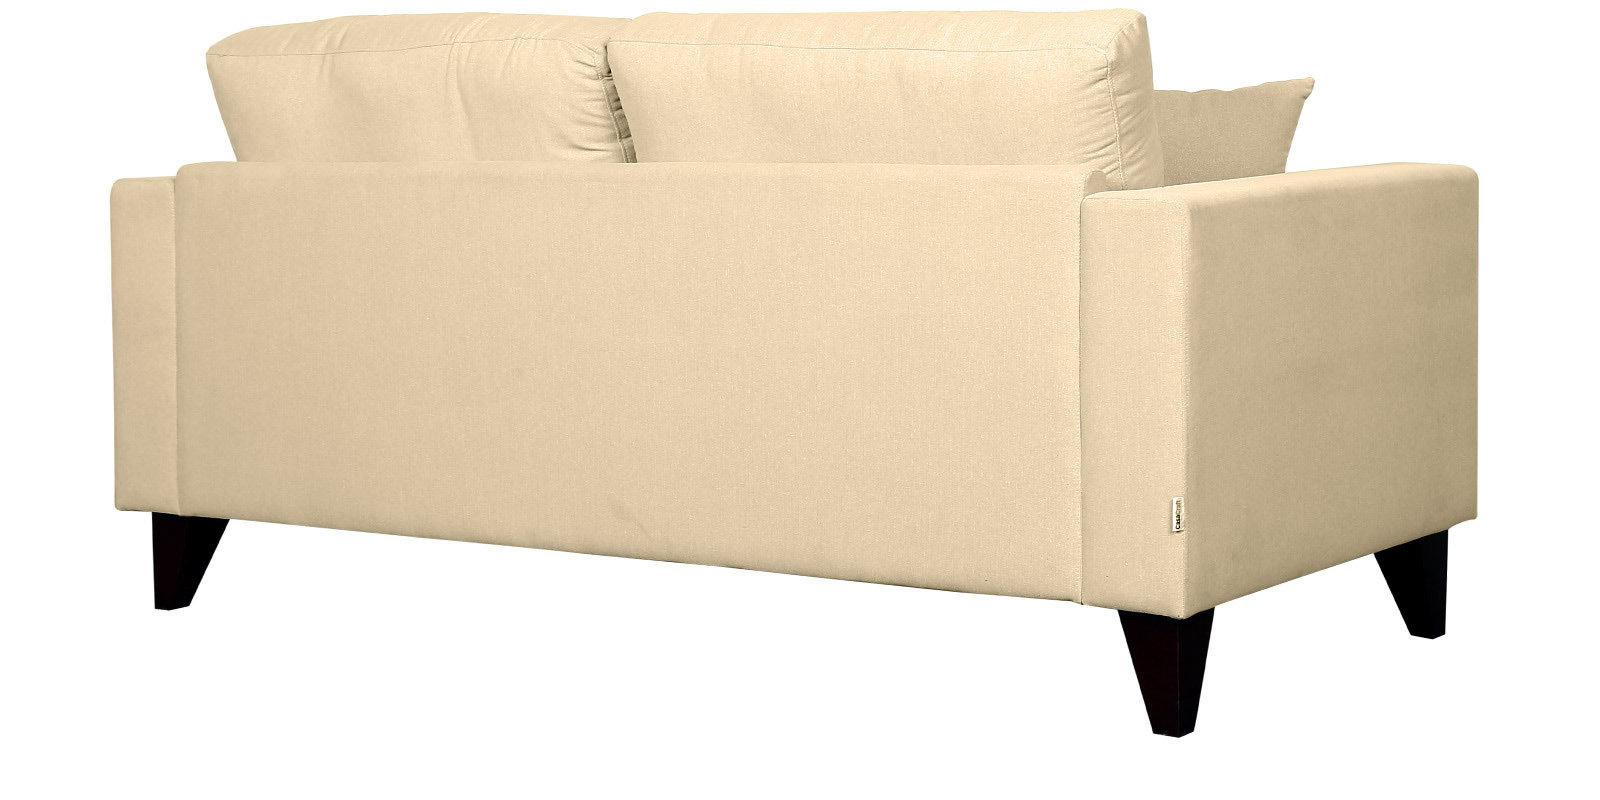Alfredo Three Seater Sofa in Beige Colour by CasaCraft: (77, 7, 1495, 748)
